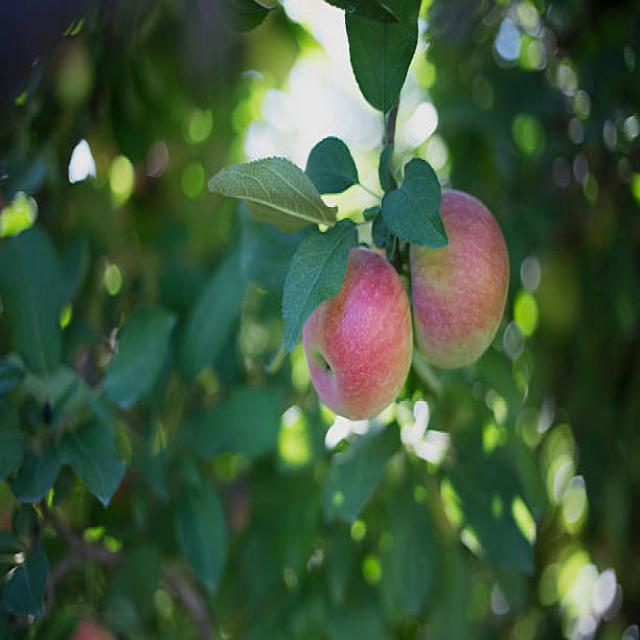Unripe: (301, 241, 412, 419), (403, 188, 511, 370)
